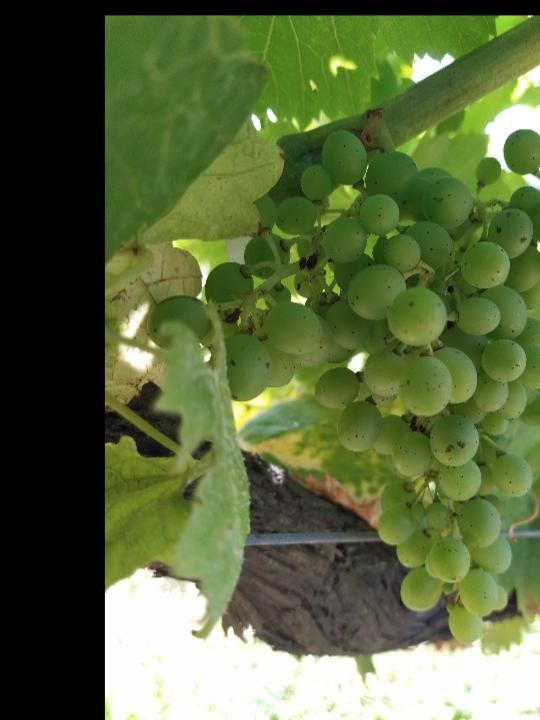grape: (146, 122, 540, 646)
